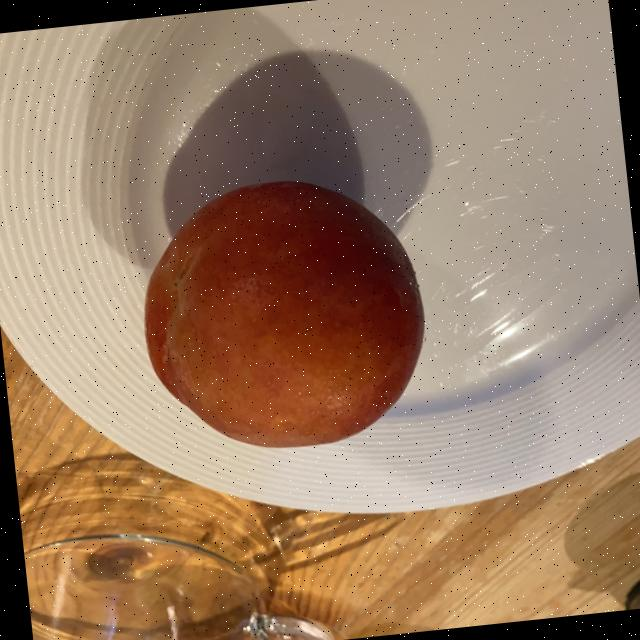peach: (146, 183, 419, 442)
